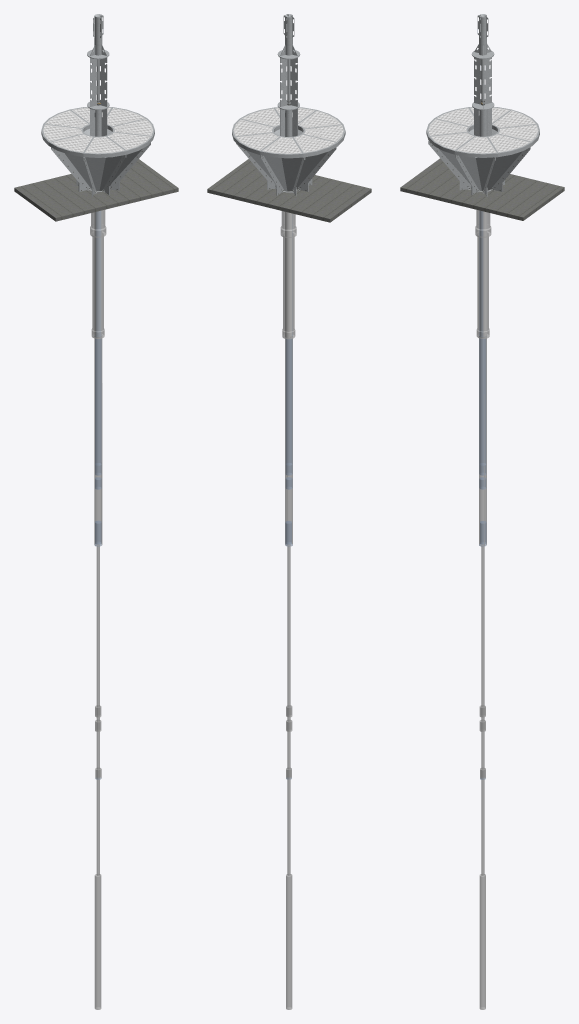
File: cork1362A.glb
The picture shows the model from 3 angles, left to right: view 1: azimuth 30°, elevation 25°; view 2: azimuth 150°, elevation 25°; view 3: azimuth 330°, elevation 25°; orthographic projection.
Visible parts, largest first — view 1: 2165e2f7-33d3-4d7f-8476-a3b5497d8e10; view 2: 2165e2f7-33d3-4d7f-8476-a3b5497d8e10; view 3: 2165e2f7-33d3-4d7f-8476-a3b5497d8e10.
Part boxes in pixels (<box>): 2165e2f7-33d3-4d7f-8476-a3b5497d8e10: <box>14,14,178,1009</box>; 2165e2f7-33d3-4d7f-8476-a3b5497d8e10: <box>207,14,371,1009</box>; 2165e2f7-33d3-4d7f-8476-a3b5497d8e10: <box>400,14,564,1009</box>.
Bounding box in the file's own units: 5 × 38.59 × 4.
7 materials, 4 textured.
